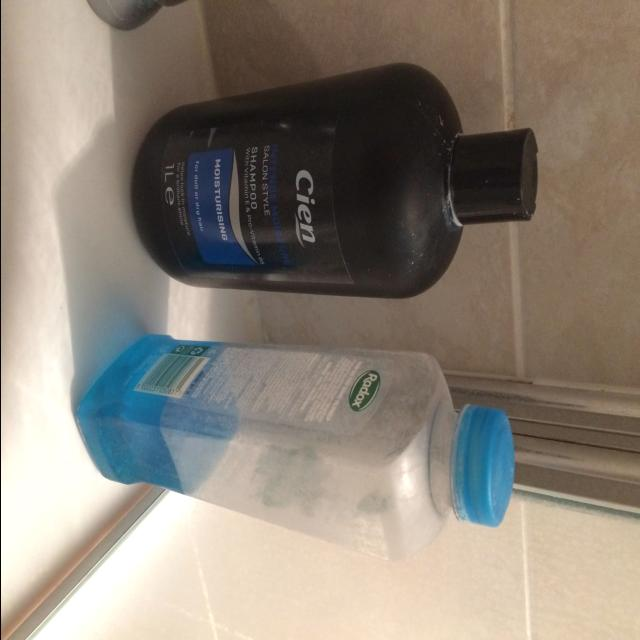Other plastic container: (75, 334, 513, 562), (130, 62, 538, 299)
Plastic bottle cap: (454, 404, 513, 528)
